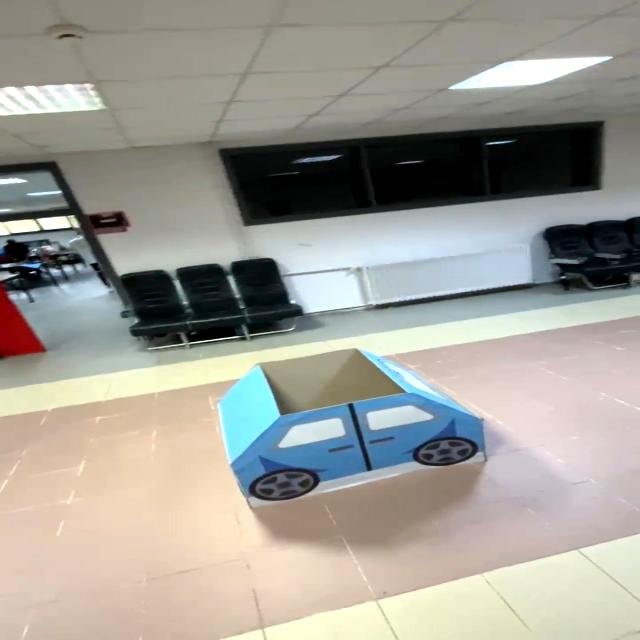blue_car: (181, 346, 518, 507)
